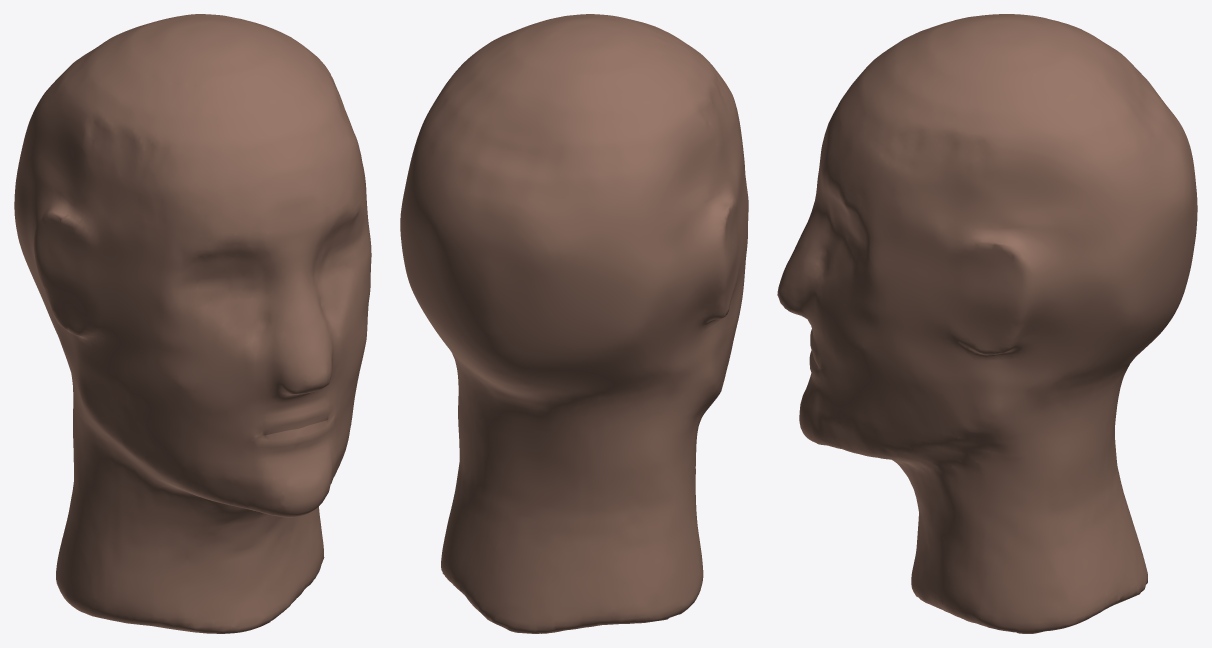
3 views of the same model, side by side, from view 1: azimuth 30°, elevation 25°; view 2: azimuth 150°, elevation 25°; view 3: azimuth 270°, elevation 25° (orthographic). The views are drawn at different scales.
Visible parts, largest first — view 1: Sphere; view 2: Sphere; view 3: Sphere.
Boxes of the visible parts, <box> form: Sphere: <box>14,14,371,633</box>; Sphere: <box>400,14,748,633</box>; Sphere: <box>777,14,1197,633</box>.
Bounding box in the file's own units: 1.78 × 3.15 × 2.12.
